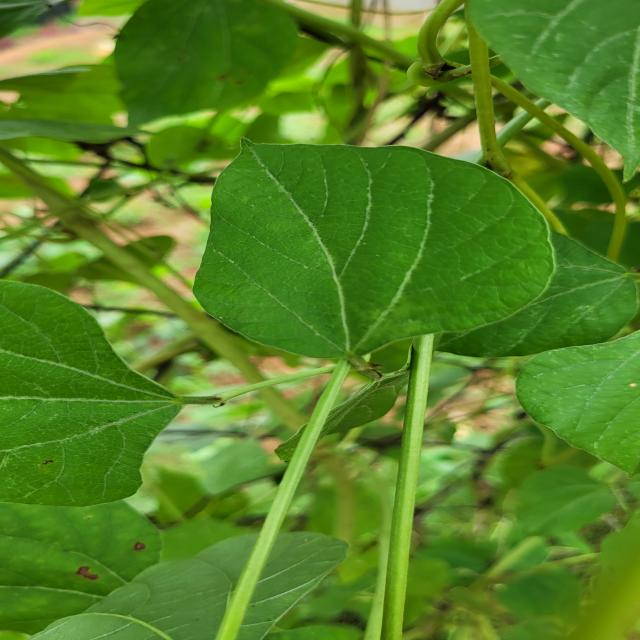Dolicos bean_cercospora leaf spot: (119, 0, 312, 123)
Dolicos bean_healthy: (204, 143, 553, 364)
